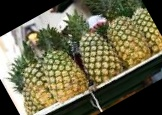Pineapple: (63, 10, 126, 85), (36, 27, 93, 104)
